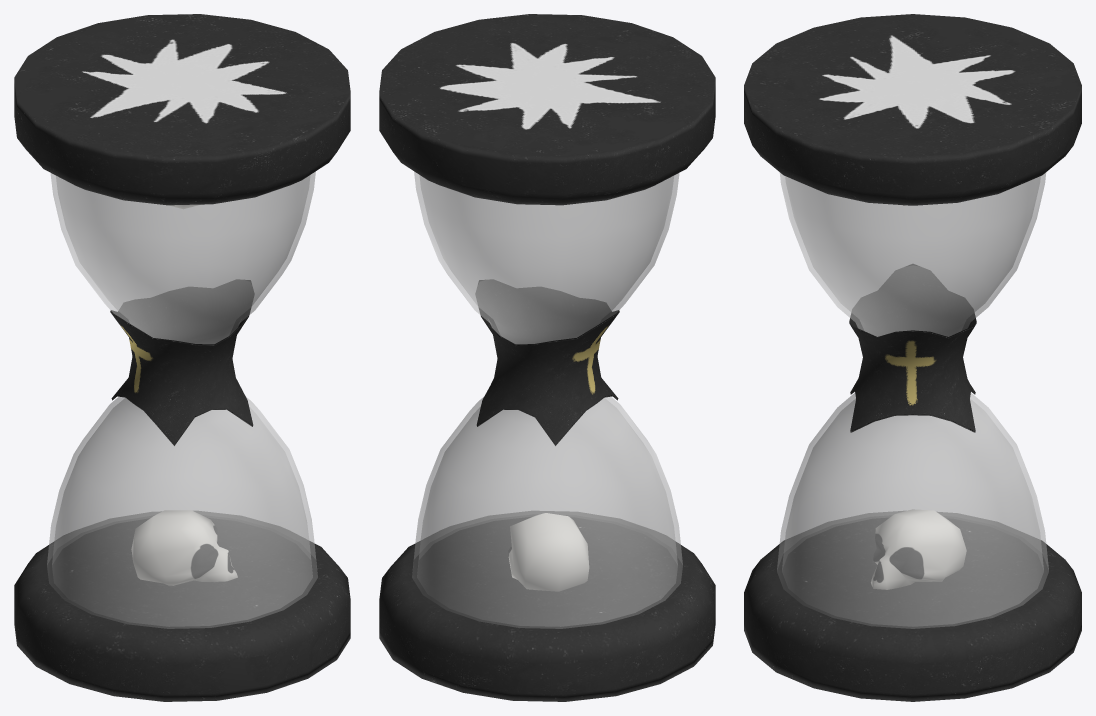
Rendered from clock.fbx.
The picture shows the model from 3 angles, left to right: view 1: azimuth 30°, elevation 25°; view 2: azimuth 150°, elevation 25°; view 3: azimuth 270°, elevation 25°; orthographic projection.
Parts seen in each view (by area): view 1: group1_pCylinder6; view 2: group1_pCylinder6; view 3: group1_pCylinder6.
Part boxes in pixels (x1,y1,x2,y2): group1_pCylinder6: [14, 14, 350, 701]; group1_pCylinder6: [379, 14, 715, 701]; group1_pCylinder6: [744, 14, 1081, 701].
Size of the model in its own units: 34.21 by 60.88 by 34.21.
